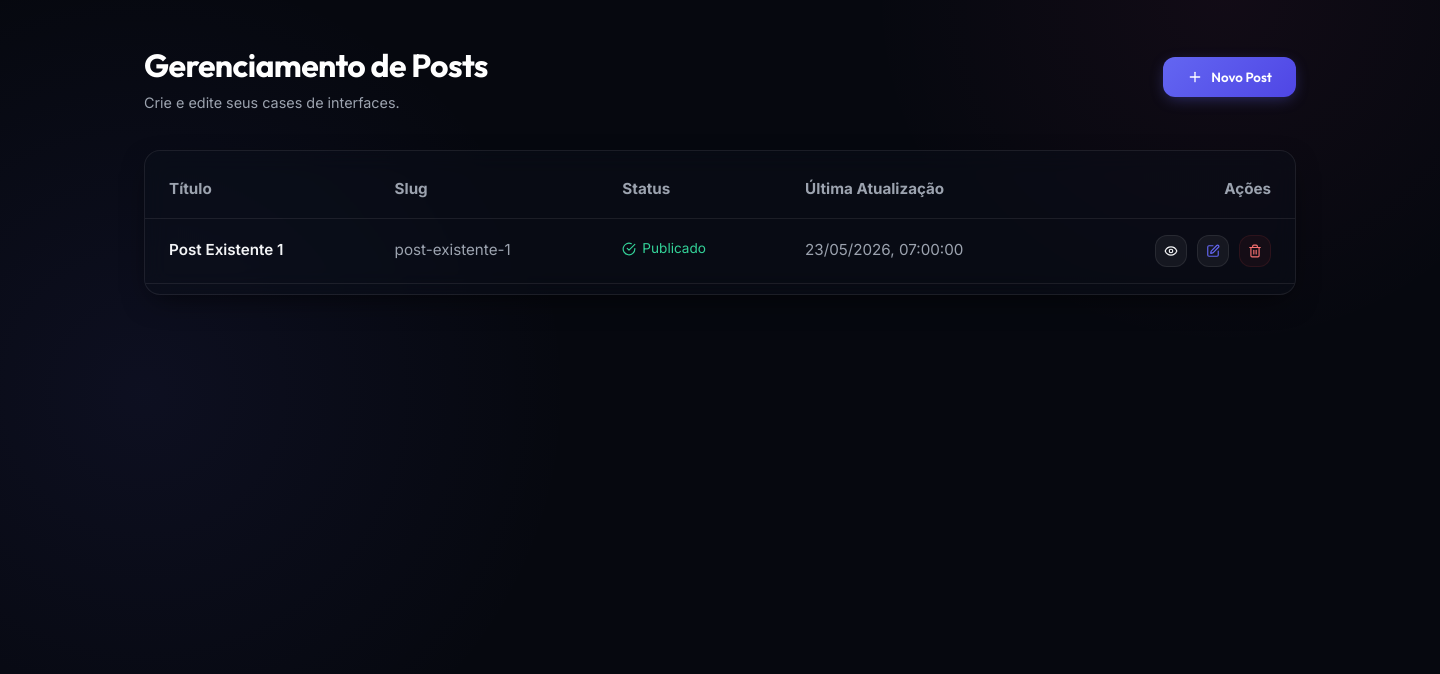
it: AdminDashboard Component › renders list of posts and navigation to create view works
The width and height of the screenshot is (1440, 674).
Expected: the text "Post Existente 1" is shown, 145,218 -> 371,283
Click the button "Novo Post": click(1230, 77) 1163,57 -> 1296,97
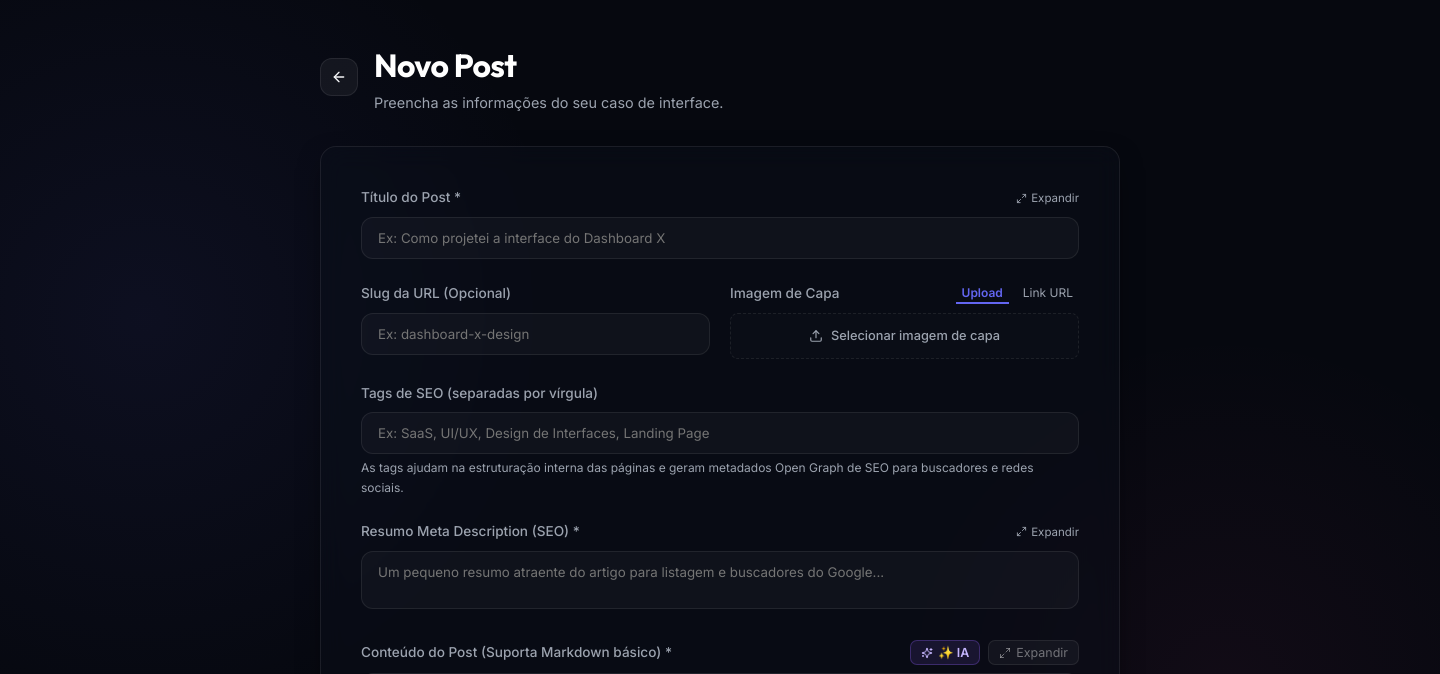
Now the heading "Novo Post" is shown, box 374,45 -> 516,85
